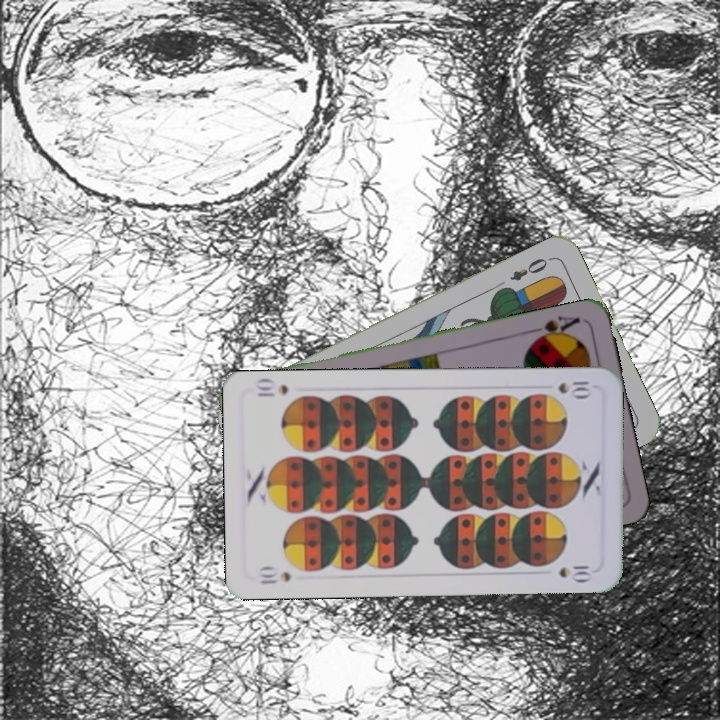EO: (506, 253, 555, 284)
S10: (554, 376, 595, 400), (255, 563, 294, 587)
SA: (525, 312, 583, 346)
